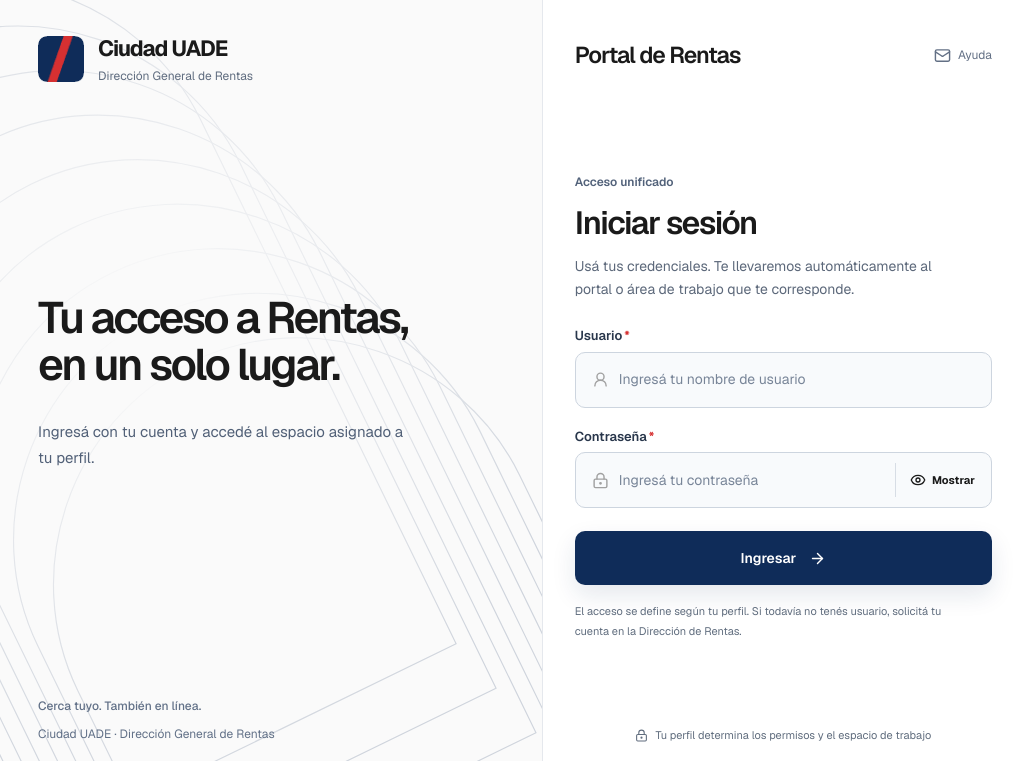
Test: ventanilla de caja › muestra las operaciones de la jornada
Step 1. Type "pcabrera" into the field labelled "Usuario*" → (797, 380), box [619,366,975,394]
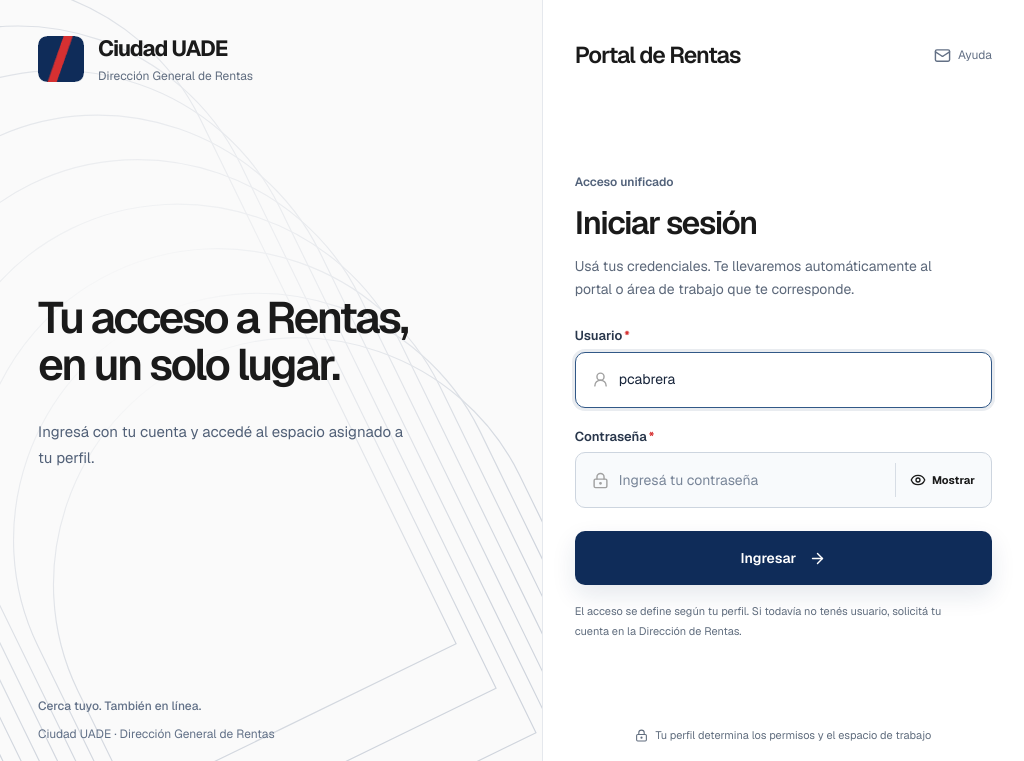
Step 2. Type "caja123" into the password field labelled "Contraseña*" → (750, 480), box [619,466,881,494]
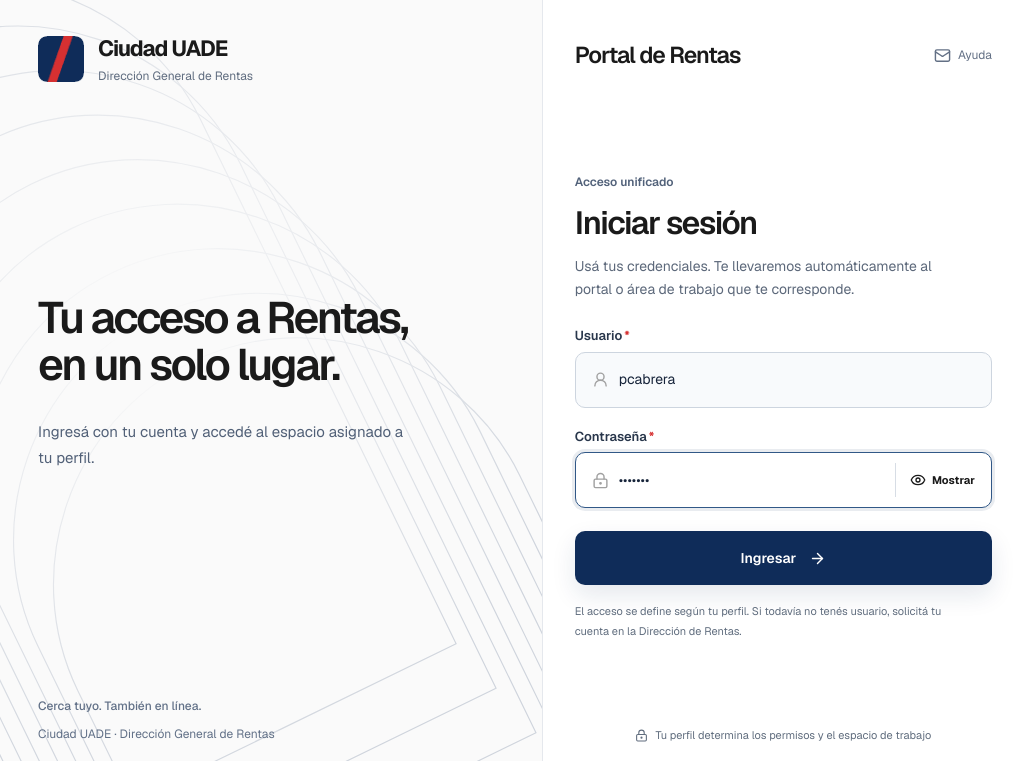
Step 3. Click the button "Ingresar" → (783, 558), box [575,531,992,585]
(page scrolled)
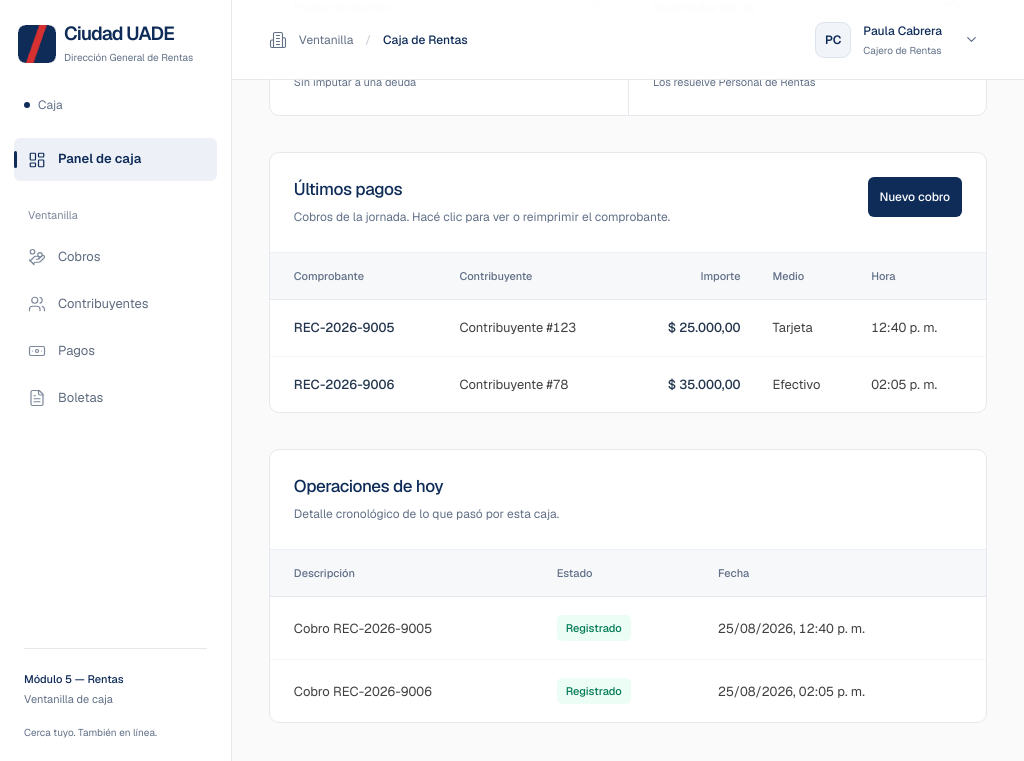
Expected: the text "REC-2026-9006" is shown, [294,376,394,393]
